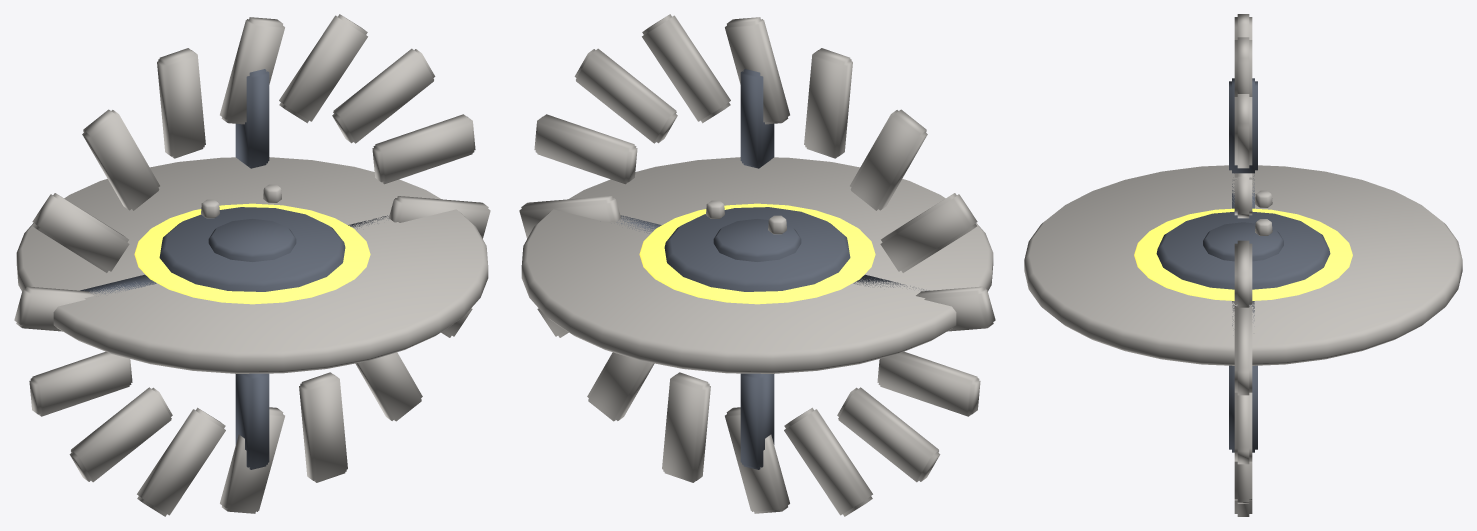
File: saw.glb
3 views of the same model, side by side, from view 1: azimuth 30°, elevation 25°; view 2: azimuth 150°, elevation 25°; view 3: azimuth 270°, elevation 25° (orthographic). The views are drawn at different scales.
Visible parts, largest first — view 1: saw; view 2: saw; view 3: saw.
Boxes of the visible parts, box(x1,y1,x2,y2) form: saw: box(14, 14, 490, 516); saw: box(519, 14, 995, 516); saw: box(1024, 14, 1462, 516).
Bounding box in the file's own units: 0.6206 × 0.6206 × 0.54.
